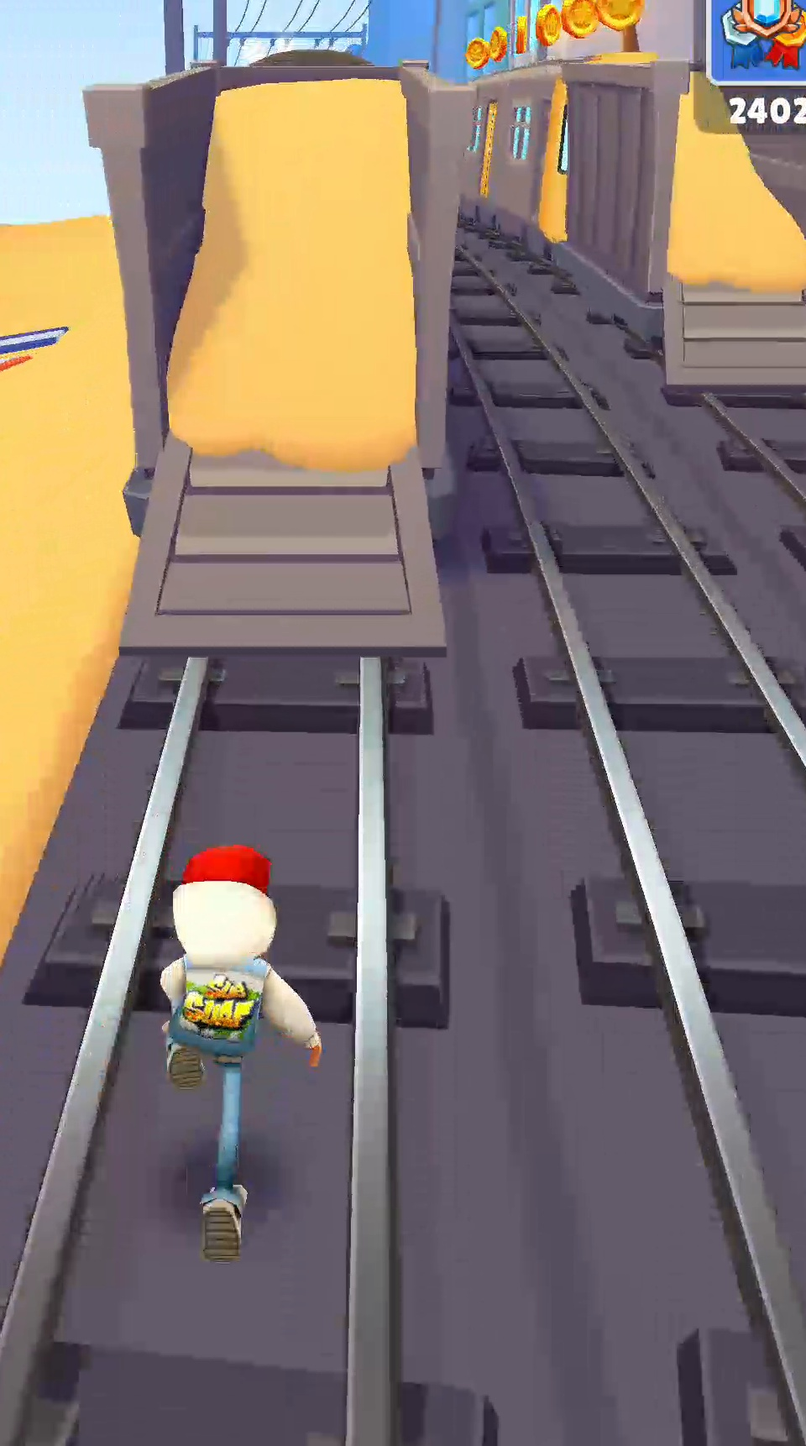climber: (121, 77, 443, 657), (663, 79, 805, 389)
train: (463, 61, 687, 317)
